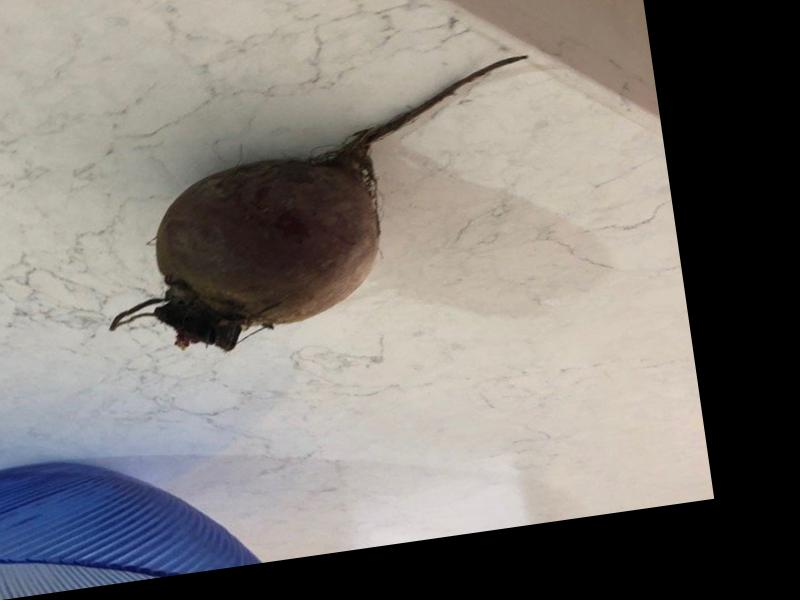Beet: (82, 53, 560, 365)
